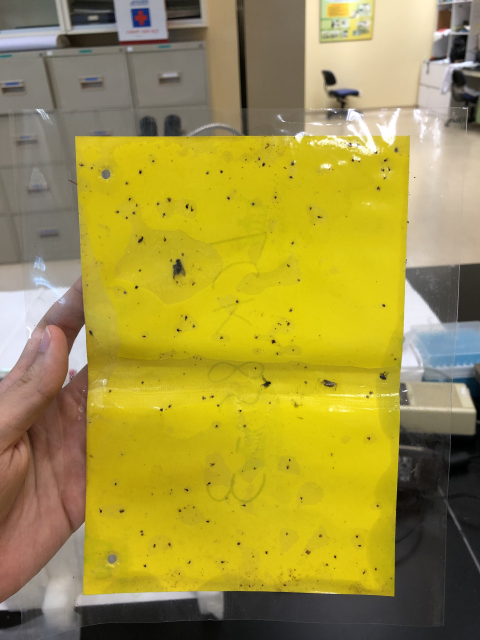DBM: (321, 377, 340, 393)
